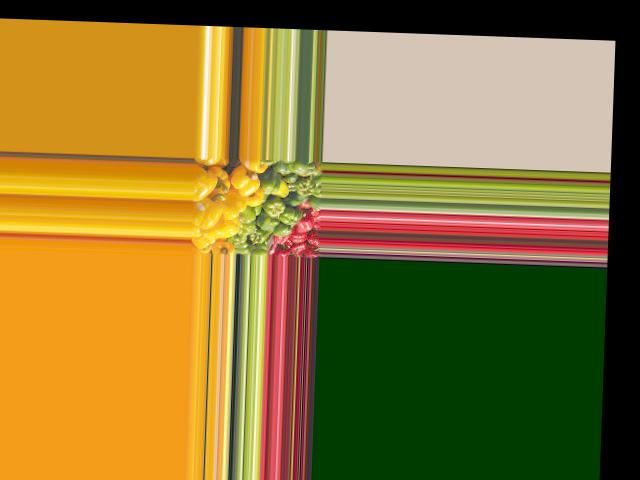bell_pepper: (299, 159, 322, 177)
